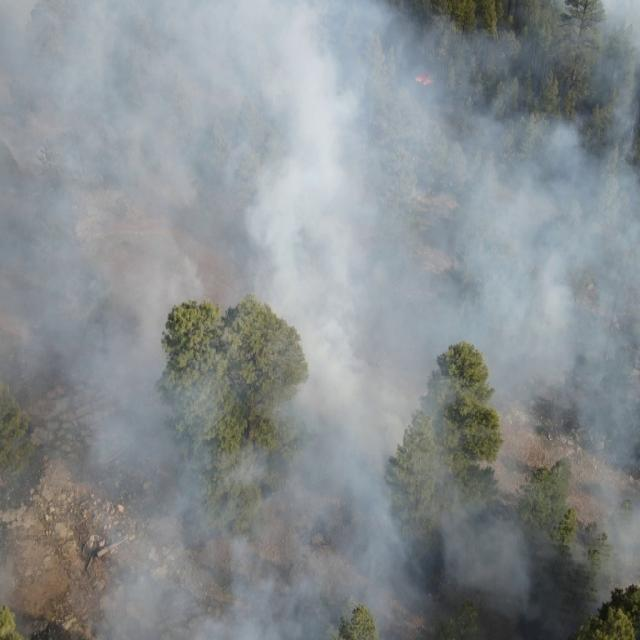fire: (414, 70, 439, 84)
smoke: (0, 0, 640, 640)
